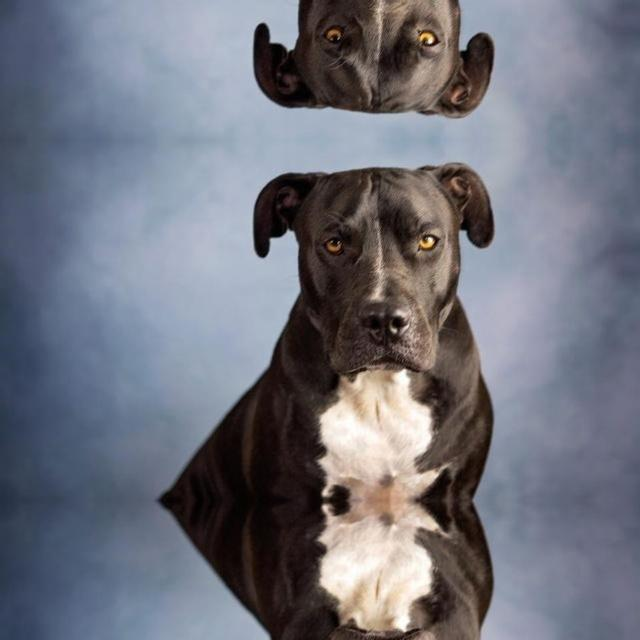dog: (241, 152, 507, 394), (241, 0, 507, 125), (241, 605, 507, 640)
